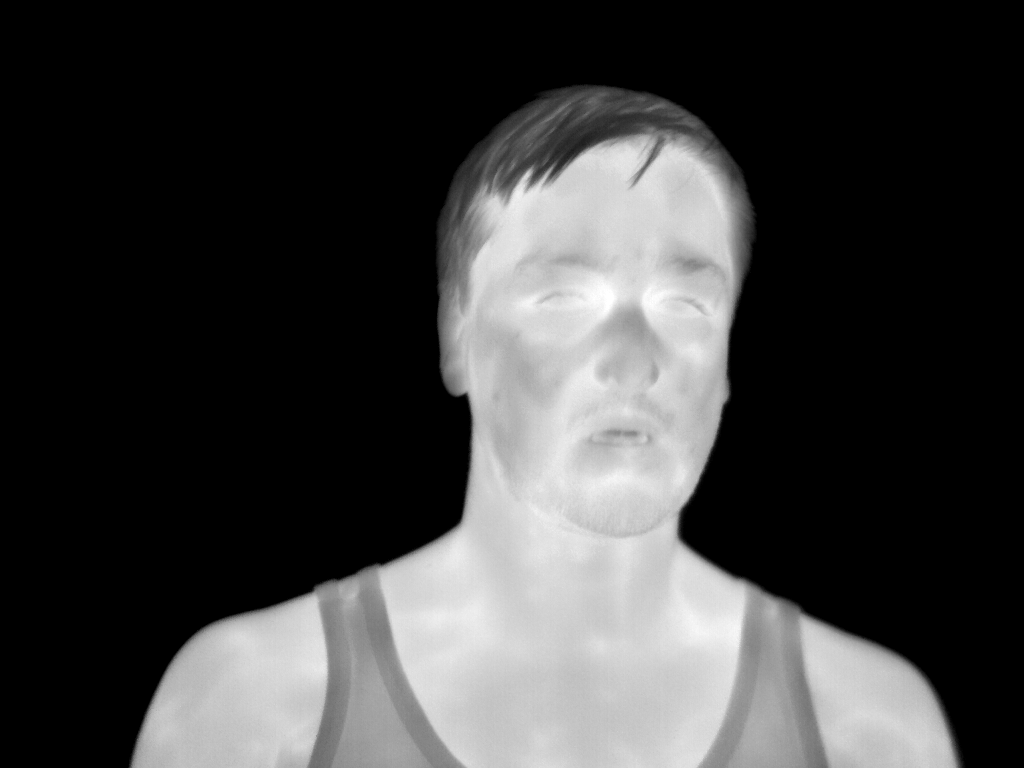face: (465, 134, 733, 535)
